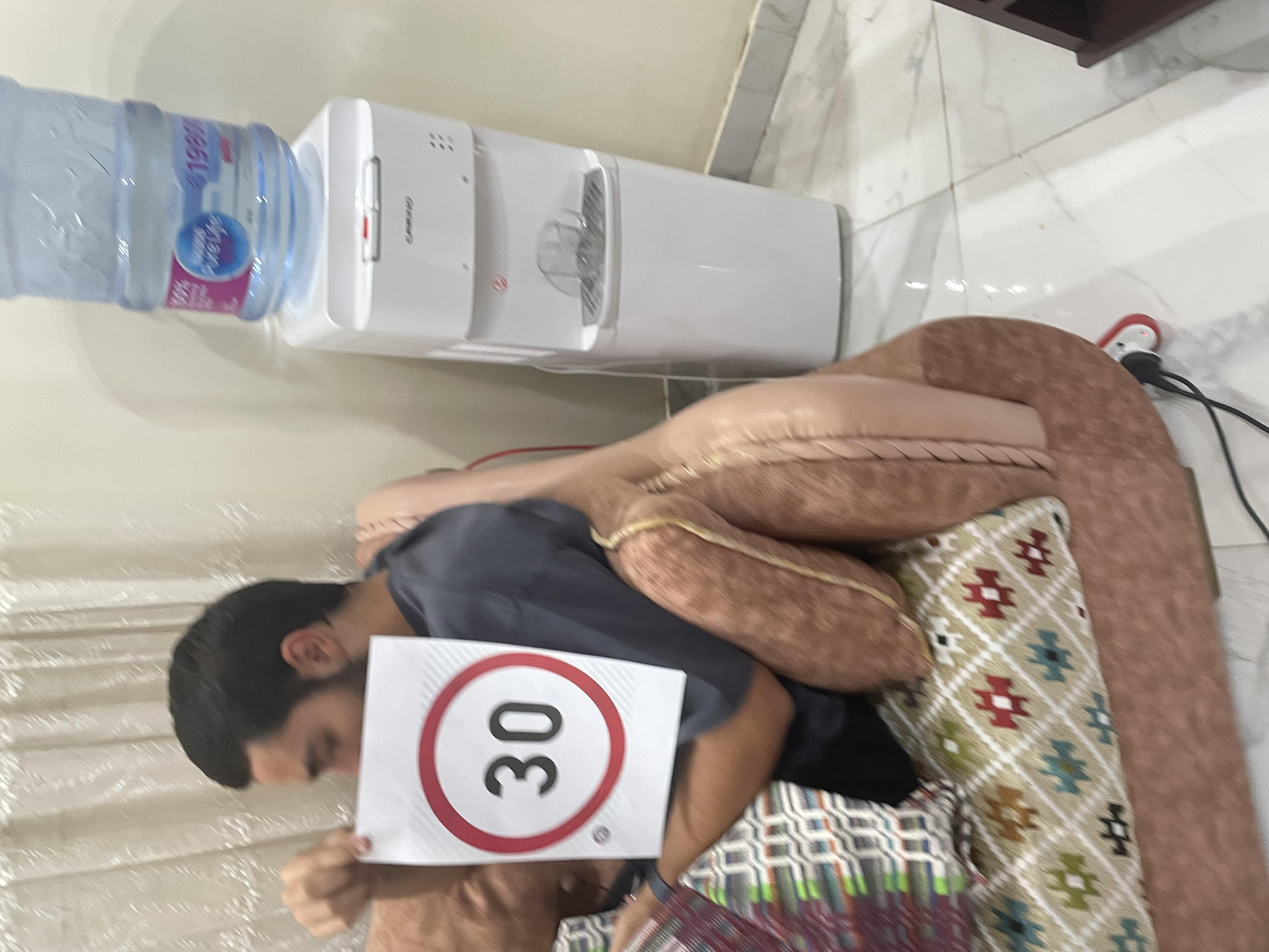30-speed: (130, 305, 425, 468)
